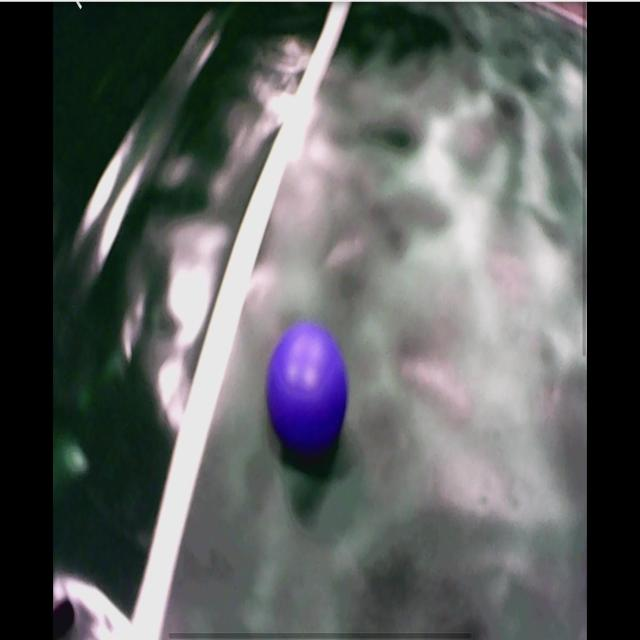ball: (267, 325, 348, 448)
